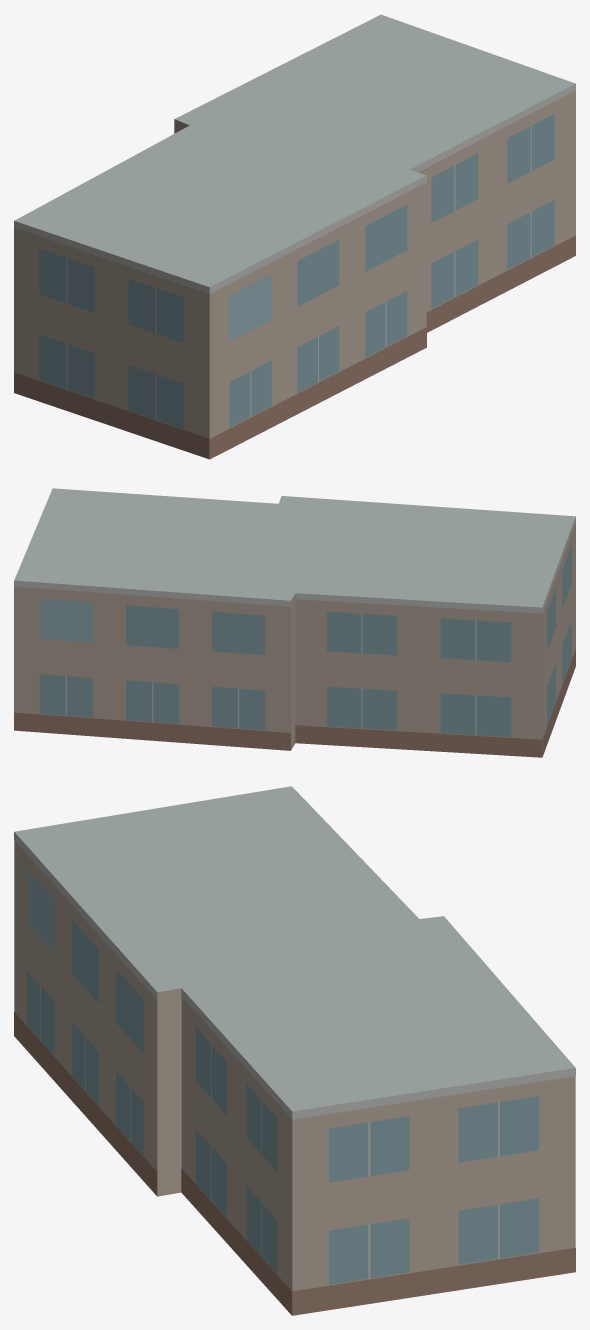
The model's file is survey-upis-32938564.glb.
3 views of the same model, one above another, from view 1: azimuth 30°, elevation 25°; view 2: azimuth 150°, elevation 25°; view 3: azimuth 270°, elevation 25° (orthographic). The views are drawn at different scales.
Visible parts, largest first — view 1: survey-upis-32938564.tmp; view 2: survey-upis-32938564.tmp; view 3: survey-upis-32938564.tmp.
Part boxes in pixels (x1,y1,x2,y2): survey-upis-32938564.tmp: [14, 14, 575, 459]; survey-upis-32938564.tmp: [14, 488, 575, 757]; survey-upis-32938564.tmp: [14, 786, 575, 1315].
Bounding box in the file's own units: 20.85 × 6.1 × 15.21.
